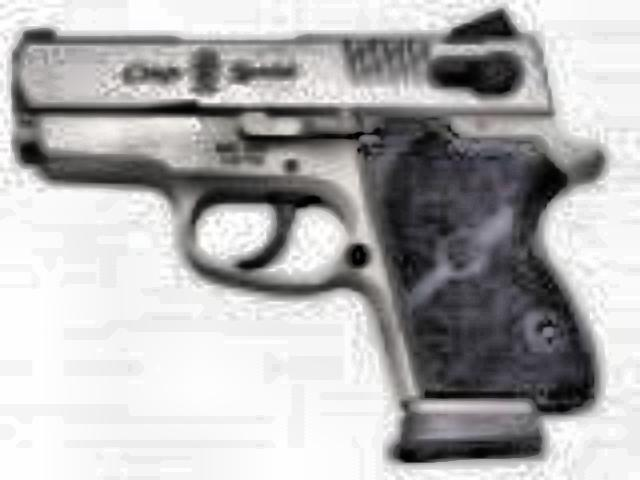pistol: (4, 16, 600, 472)
